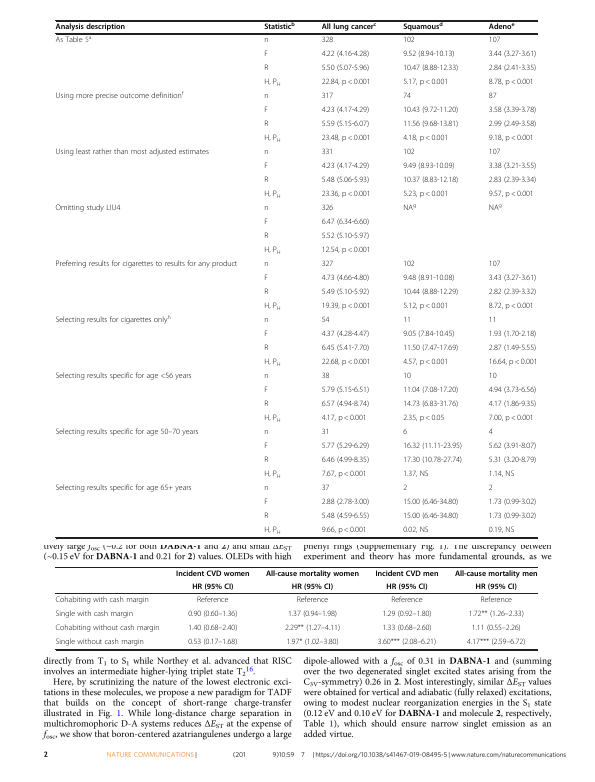borderless: (54, 19, 537, 537), (54, 565, 537, 649)
cell: (55, 260, 238, 270), (55, 148, 210, 158), (55, 90, 184, 102), (55, 428, 199, 438), (55, 314, 172, 326), (55, 372, 192, 382), (55, 484, 192, 494), (54, 623, 160, 633), (54, 595, 150, 605), (55, 637, 145, 647), (265, 569, 360, 578), (54, 609, 134, 619), (454, 569, 538, 578), (175, 569, 250, 578), (55, 204, 121, 214), (55, 23, 126, 32), (321, 21, 377, 32), (402, 442, 463, 452), (402, 456, 463, 466), (377, 637, 437, 647), (466, 637, 526, 647), (374, 569, 439, 578), (402, 64, 459, 74), (402, 106, 459, 116), (402, 120, 459, 130), (402, 176, 459, 186), (402, 288, 459, 298), (402, 344, 459, 354), (402, 386, 459, 396), (402, 400, 459, 410), (402, 498, 459, 508), (402, 512, 459, 522), (468, 609, 525, 619), (284, 623, 341, 633), (285, 637, 339, 647), (402, 50, 455, 60), (402, 162, 455, 172), (402, 274, 455, 284), (402, 330, 455, 340), (187, 609, 238, 619), (287, 609, 338, 619), (381, 609, 432, 619), (187, 623, 238, 633), (381, 623, 432, 633), (471, 623, 522, 633), (187, 637, 238, 647), (321, 78, 371, 88), (321, 134, 371, 144), (321, 190, 371, 200), (321, 246, 371, 256), (321, 302, 371, 312), (321, 358, 371, 368), (488, 358, 538, 368), (321, 50, 370, 60), (488, 50, 537, 60), (321, 64, 370, 74), (488, 64, 537, 74), (321, 106, 370, 116), (488, 106, 537, 116), (321, 120, 370, 130), (488, 120, 537, 130), (321, 162, 370, 172), (488, 162, 537, 172), (321, 176, 370, 186), (488, 176, 537, 186), (321, 218, 370, 228), (321, 232, 370, 242), (321, 274, 370, 284), (488, 274, 537, 284), (321, 288, 370, 298), (488, 288, 537, 298), (321, 330, 370, 340), (488, 330, 537, 340), (321, 344, 370, 354), (488, 344, 537, 354), (321, 386, 370, 396), (488, 386, 537, 396), (321, 400, 370, 410), (488, 400, 537, 410), (321, 442, 370, 452), (488, 442, 537, 452), (321, 456, 370, 466), (488, 456, 537, 466), (321, 498, 370, 508), (488, 498, 537, 508), (321, 512, 370, 522), (488, 512, 537, 522), (402, 78, 449, 88), (488, 78, 535, 88), (402, 134, 449, 144), (488, 134, 535, 144), (402, 190, 449, 200), (488, 190, 535, 200), (402, 302, 449, 312), (488, 302, 535, 312), (402, 358, 449, 368), (321, 414, 368, 424), (488, 414, 535, 424), (321, 470, 368, 480), (321, 526, 368, 536), (402, 21, 444, 32), (55, 34, 92, 46), (402, 414, 445, 424), (191, 582, 234, 592), (291, 582, 334, 592), (385, 582, 428, 592), (475, 582, 518, 592), (263, 21, 296, 32), (390, 595, 424, 605), (479, 595, 513, 605), (196, 595, 229, 605), (296, 595, 329, 605), (488, 21, 515, 32), (402, 470, 429, 480), (488, 470, 515, 480), (402, 526, 429, 536), (488, 526, 515, 536), (263, 78, 282, 88), (263, 134, 282, 144), (263, 190, 282, 200), (263, 246, 282, 256), (263, 302, 282, 312), (263, 358, 282, 368), (263, 414, 282, 424), (263, 470, 282, 480), (263, 526, 282, 536), (402, 202, 417, 214), (488, 202, 503, 214), (402, 36, 416, 46), (402, 148, 416, 158), (402, 260, 416, 270), (321, 36, 334, 46), (488, 36, 501, 46), (321, 92, 334, 102), (321, 148, 334, 158), (488, 148, 501, 158), (321, 204, 334, 214), (321, 260, 334, 270), (488, 260, 501, 270), (402, 92, 412, 102), (402, 316, 412, 326), (402, 372, 412, 382), (488, 92, 497, 102), (321, 316, 330, 326), (488, 316, 497, 326), (321, 372, 330, 382), (488, 372, 497, 382), (321, 428, 330, 438), (321, 484, 330, 494), (263, 36, 269, 46), (263, 50, 269, 60), (263, 64, 269, 74), (263, 92, 269, 102), (263, 106, 269, 116), (263, 120, 269, 130), (263, 148, 269, 158), (263, 162, 269, 172), (263, 176, 269, 186), (263, 204, 269, 214), (263, 218, 269, 228), (263, 232, 269, 242), (263, 260, 269, 270), (263, 274, 269, 284), (263, 288, 269, 298), (263, 316, 269, 326), (263, 330, 269, 340), (263, 344, 269, 354), (263, 372, 269, 382), (263, 386, 269, 396), (263, 400, 269, 410), (263, 428, 269, 438), (402, 428, 408, 438), (488, 428, 494, 438), (263, 442, 269, 452), (263, 456, 269, 466), (263, 484, 269, 494), (402, 484, 408, 494), (488, 484, 494, 494), (263, 498, 269, 508), (263, 512, 269, 522)
